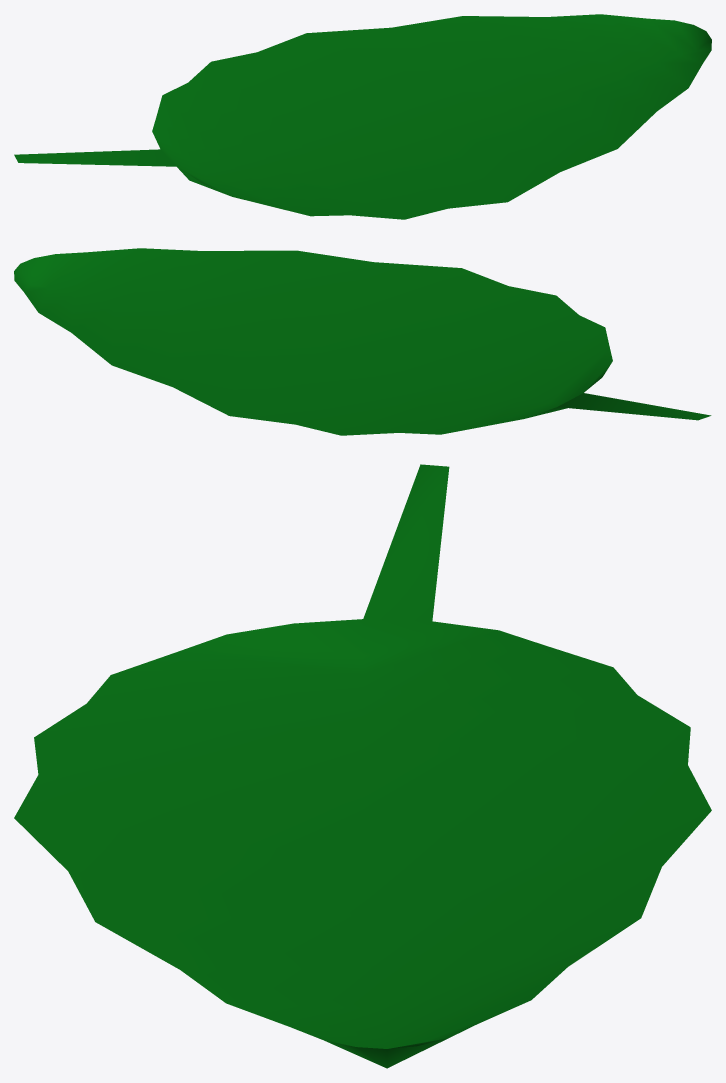
Rendered from leaf.fbx.
The picture shows the model from 3 angles, top to bottom: view 1: azimuth 30°, elevation 25°; view 2: azimuth 150°, elevation 25°; view 3: azimuth 270°, elevation 25°; orthographic projection. The views are drawn at different scales.
Parts seen in each view (by area): view 1: Object_4; view 2: Object_4; view 3: Object_4.
Boxes of the visible parts, box(x1,y1,x2,y2) form: Object_4: box(14, 14, 711, 219); Object_4: box(14, 248, 711, 435); Object_4: box(14, 464, 711, 1068).
Bounding box in the file's own units: 180 × 12.21 × 98.13.
